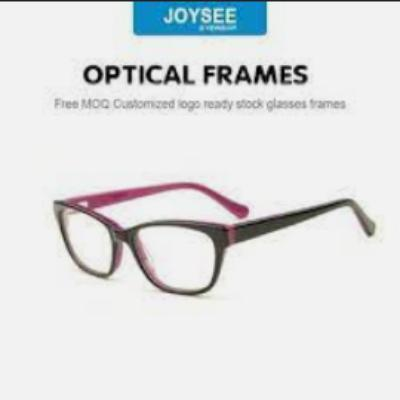glasses: (49, 179, 378, 297)
